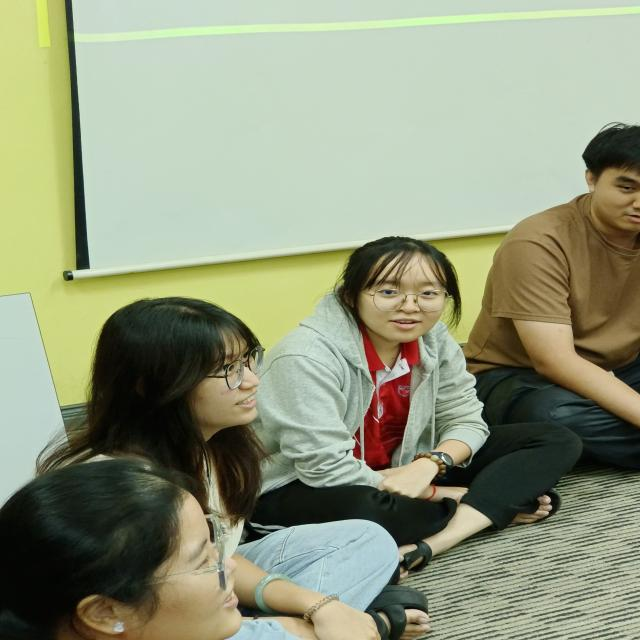person_without_labcoat: (37, 298, 399, 640), (254, 237, 581, 573), (463, 123, 640, 468)
